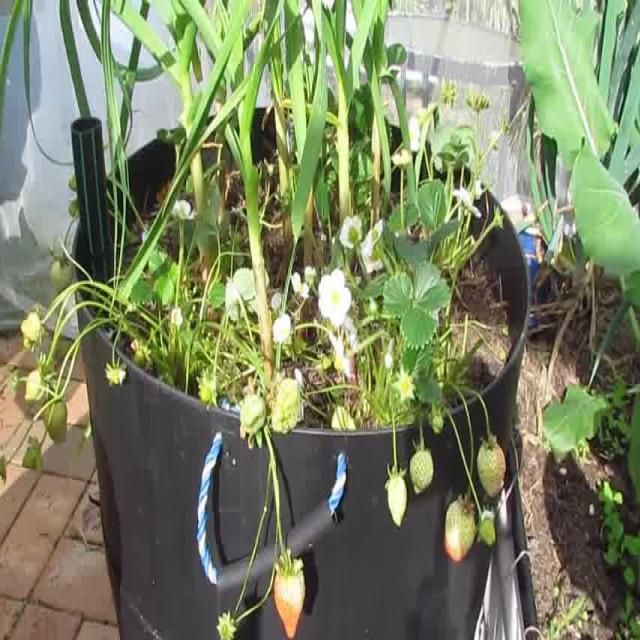Moho gris: (277, 548, 308, 640)
